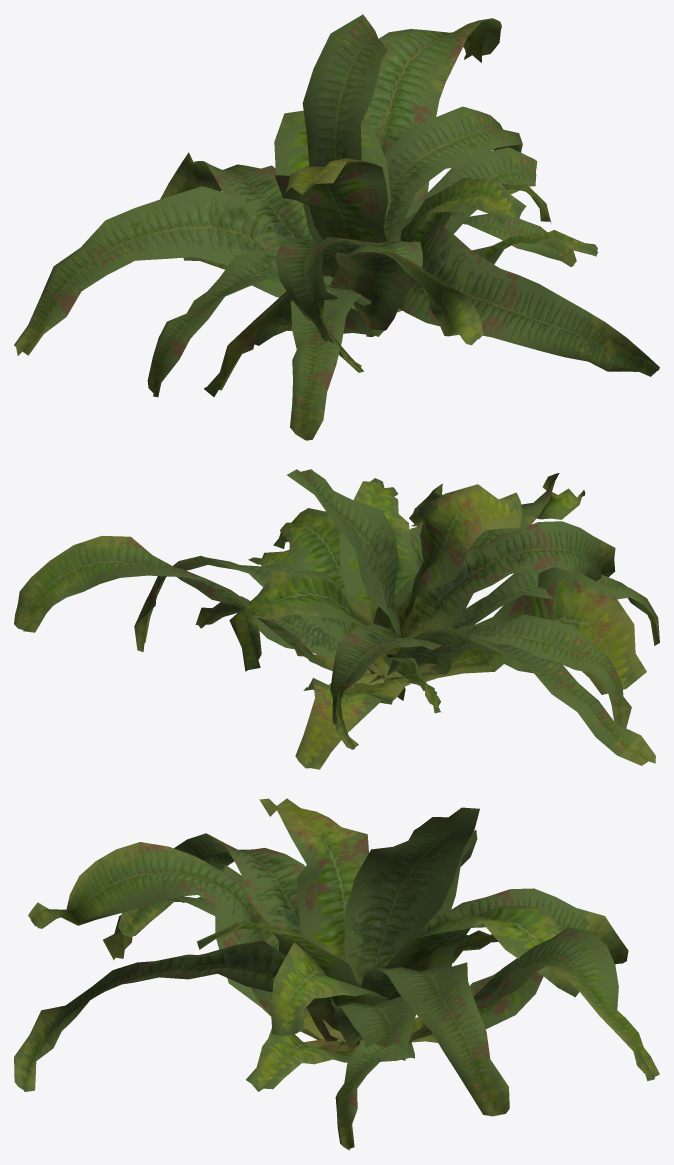
The model's file is urbanFern.glb.
3 views of the same model, one above another, from view 1: azimuth 30°, elevation 25°; view 2: azimuth 150°, elevation 25°; view 3: azimuth 270°, elevation 25° (orthographic). The views are drawn at different scales.
Visible parts, largest first — view 1: fern_02_b; view 2: fern_02_b; view 3: fern_02_b.
Boxes of the visible parts, bbox=[...] form: fern_02_b: bbox=[14, 14, 659, 440]; fern_02_b: bbox=[14, 469, 659, 769]; fern_02_b: bbox=[14, 798, 659, 1150].
Bounding box in the file's own units: 0.9897 × 0.4277 × 0.8937.
Materials: 1 (1 with a texture image).
